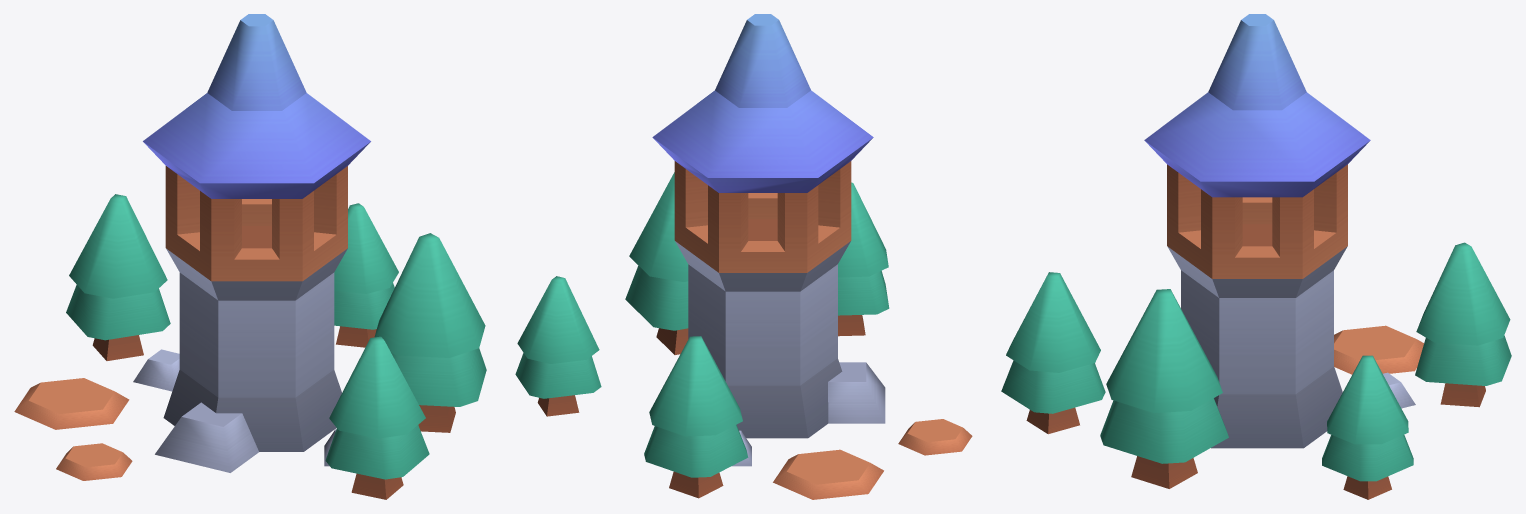
The model's file is tower.fbx.
The picture shows the model from 3 angles, left to right: view 1: azimuth 30°, elevation 25°; view 2: azimuth 150°, elevation 25°; view 3: azimuth 270°, elevation 25°; orthographic projection. The views are drawn at different scales.
Visible parts, largest first — view 1: building_tower; view 2: building_tower; view 3: building_tower.
Part boxes in pixels (left/top/right/bottom): building_tower: left=14, top=14, right=486, bottom=499; building_tower: left=515, top=14, right=972, bottom=499; building_tower: left=1001, top=14, right=1511, bottom=499.
Size of the model in its own units: 86.08 by 82 by 96.22.
